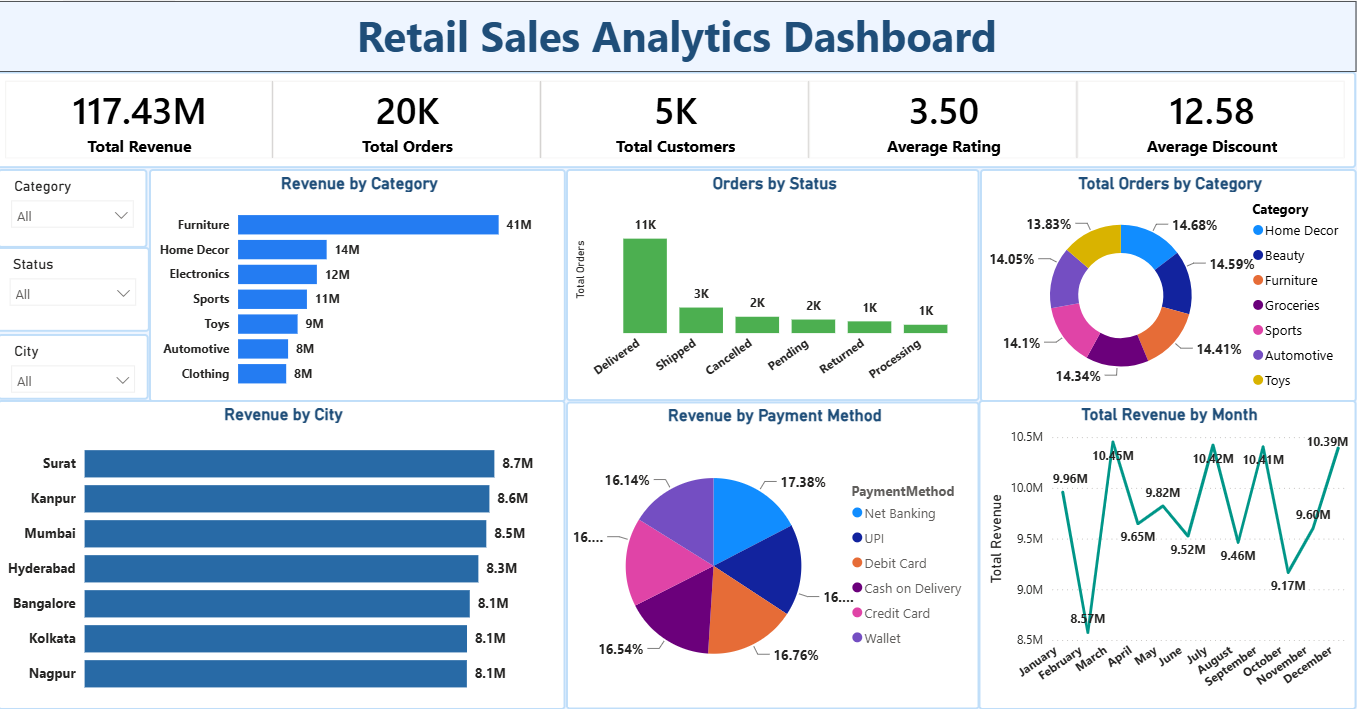

The page's visual inventory and layout, read from the dashboard file:
{"tool":"powerbi","page":{"name":"Page 1","canvas":[1380,720],"ordinal":0},"visuals":[{"type":"cardVisual","fields":{"Data":["Orders_Cleaned.Total Revenue","Orders_Cleaned.Total Orders","Orders_Cleaned.Total Customers","Orders_Cleaned.Average Rating","Orders_Cleaned.Average Discount"]},"box":[0,71.8,1379.5,98],"z":0},{"type":"slicer","fields":{"Values":["Orders_Cleaned.Category"]},"box":[1.6,169.8,151.8,80],"z":1000},{"type":"slicer","fields":{"Values":["Orders_Cleaned.City"]},"box":[1.6,337.9,153.5,66.9],"z":2000},{"type":"slicer","fields":{"Values":["Orders_Cleaned.Status"]},"box":[0,250.1,155.7,86.1],"z":3000},{"type":"clusteredBarChart","title":"Revenue by Category","fields":{"Category":["Orders_Cleaned.Category"],"Y":["Orders_Cleaned.Total Revenue"]},"box":[155.1,169.8,422.8,236.7],"z":4000},{"type":"barChart","title":"Revenue by City","fields":{"Category":["Orders_Cleaned.City"],"Y":["Orders_Cleaned.Total Revenue"]},"box":[1.6,404.9,576.3,315.1],"z":5000},{"type":"columnChart","title":"Orders by Status","fields":{"Category":["Orders_Cleaned.Status"],"Y":["Orders_Cleaned.Total Orders"]},"box":[577.9,169.8,419.6,235.1],"z":7000},{"type":"donutChart","fields":{"Category":["Orders_Cleaned.Category"],"Y":["Orders_Cleaned.Total Orders"]},"box":[997.5,169.8,382,236.7],"z":8000},{"type":"textbox","box":[1.6,0,1377.8,71.8],"z":9000},{"type":"lineChart","fields":{"Y":["Orders_Cleaned.Total Revenue"],"Category":["Orders_Cleaned.OrderDate.Variation.Date Hierarchy.Month"]},"box":[959.9,404.9,383.6,315.1],"z":10000},{"type":"pieChart","title":"Revenue by Payment Method","fields":{"Category":["Orders_Cleaned.PaymentMethod"],"Y":["Orders_Cleaned.Total Revenue"]},"box":[577.9,406.5,419.6,313.4],"z":11000}]}

Visuals, with their boxes in screenshot pixels (x1, y1, x2, y2), scaled from the page's 1380x720 canvas onto the 1357x709 screenshot:
cardVisual - Orders_Cleaned.Total Revenue x Orders_Cleaned.Total Orders: 0:71:1356:167
slicer - Orders_Cleaned.Category: 2:167:151:246
slicer - Orders_Cleaned.City: 2:333:153:399
slicer - Orders_Cleaned.Status: 0:246:153:331
"Revenue by Category" clusteredBarChart: 153:167:568:400
"Revenue by City" barChart: 2:399:568:708
"Orders by Status" columnChart: 568:167:981:399
donutChart - Orders_Cleaned.Category x Orders_Cleaned.Total Orders: 981:167:1356:400
textbox: 2:0:1356:71
lineChart - Orders_Cleaned.Total Revenue x Orders_Cleaned.OrderDate.Variation.Date Hierarchy.Month: 944:399:1321:708
"Revenue by Payment Method" pieChart: 568:400:981:708
